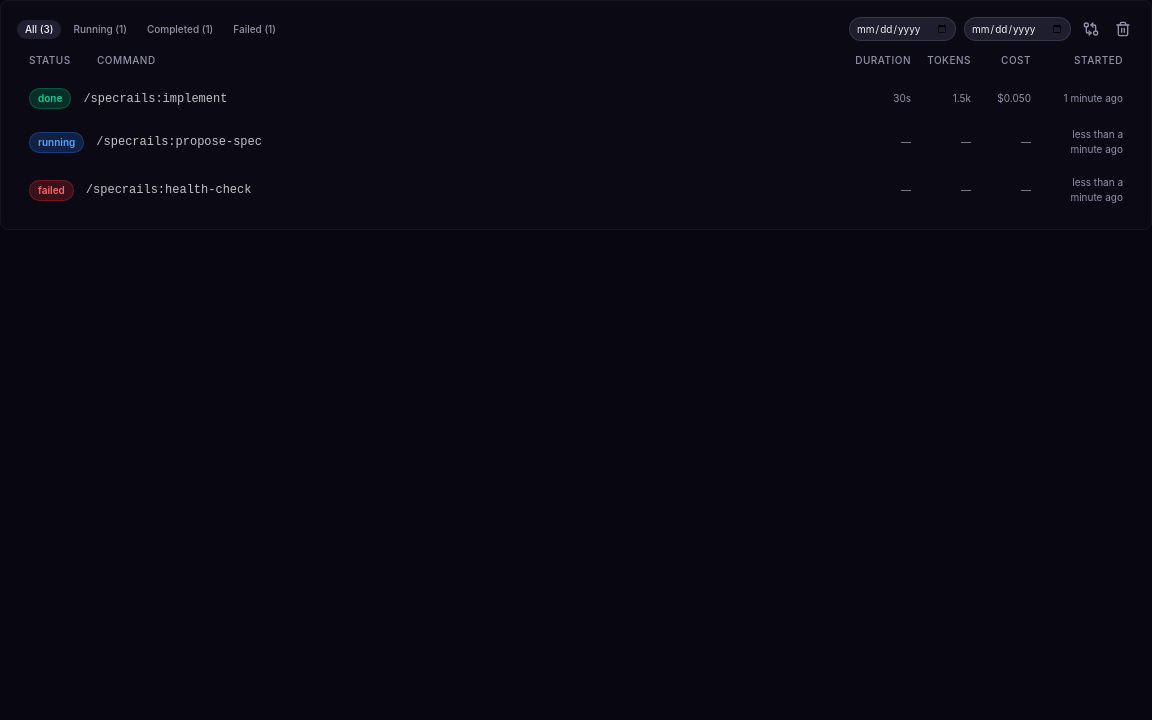
Scenario: RecentJobs › clear modal › opens clear modal when trash button is clicked
Click the 6th button at (1123, 29), box [1111,17,1135,41]
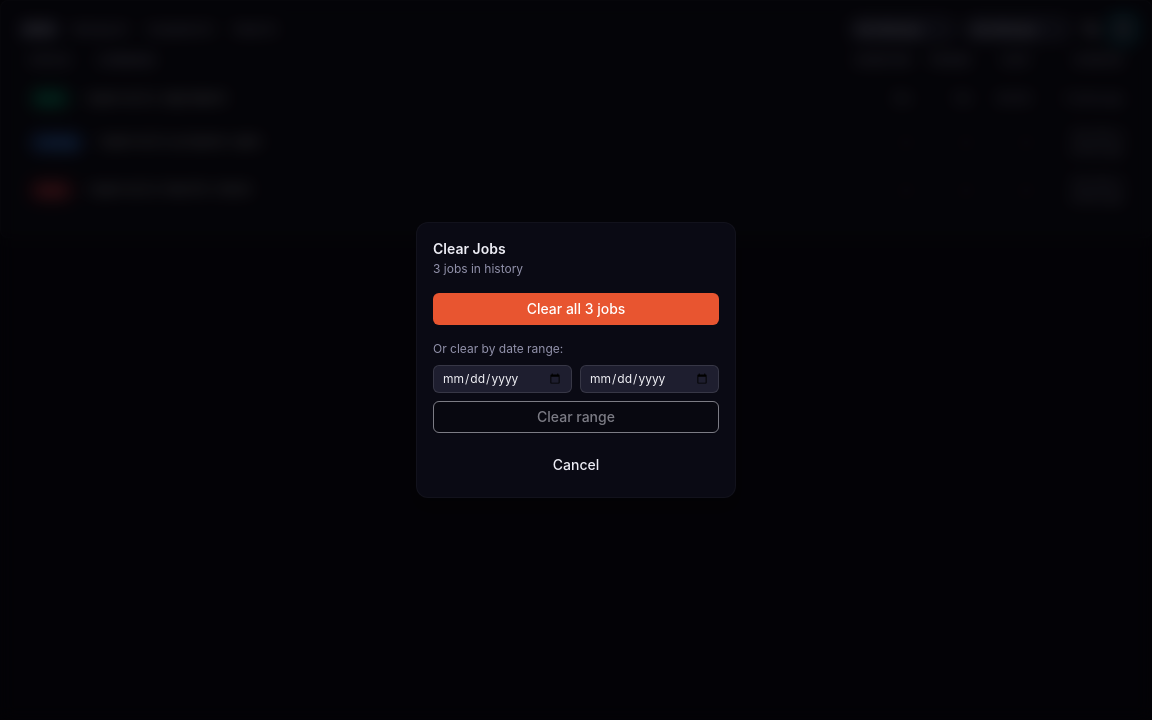
Check: the button "Clear all 3 jobs" is shown, box [433,293,719,325]
